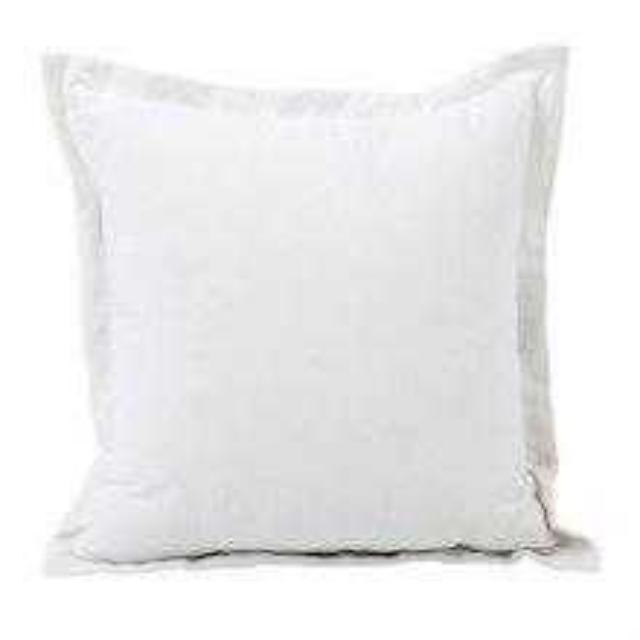pillow: (38, 42, 570, 564)
